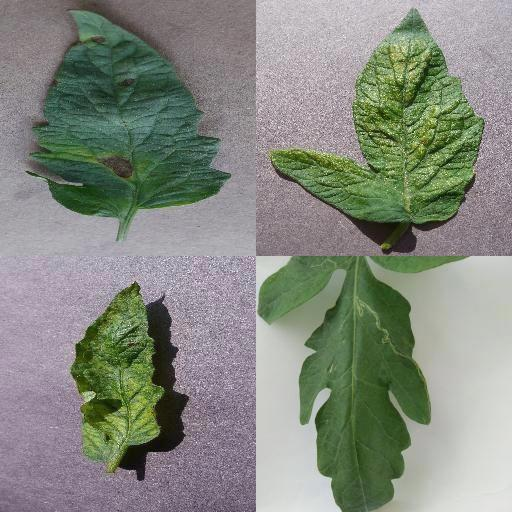Early Blight: (29, 7, 232, 217)
Leaf Miner: (298, 273, 434, 512)
Mosaic Virus: (69, 280, 166, 460)
Spider Mites: (273, 7, 485, 223)
